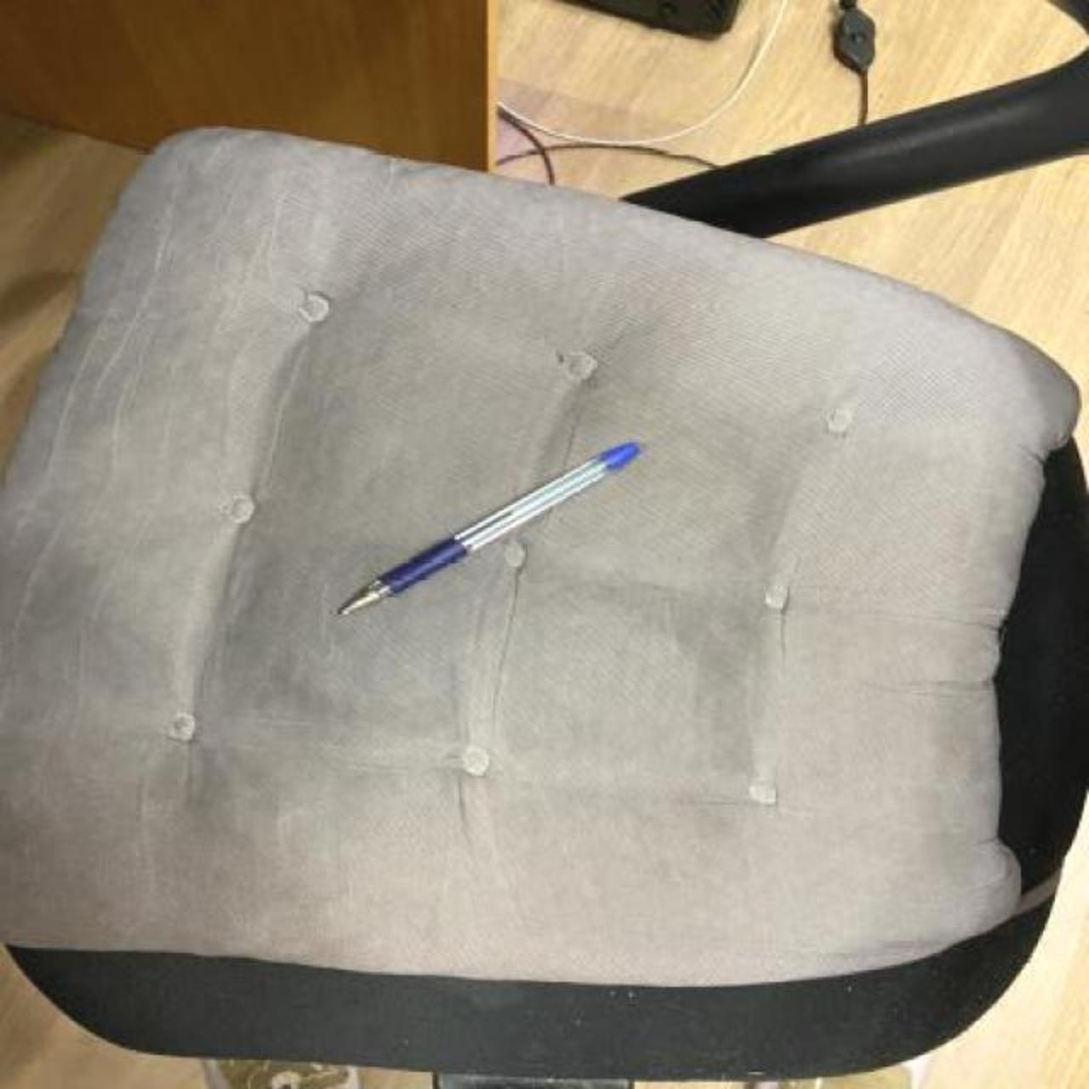pen: (339, 441, 643, 616)
